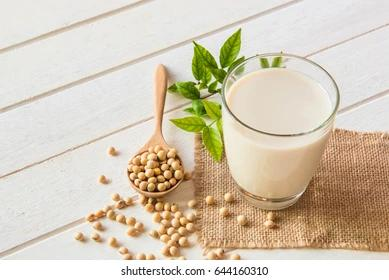produk_susu: (233, 64, 309, 194)
